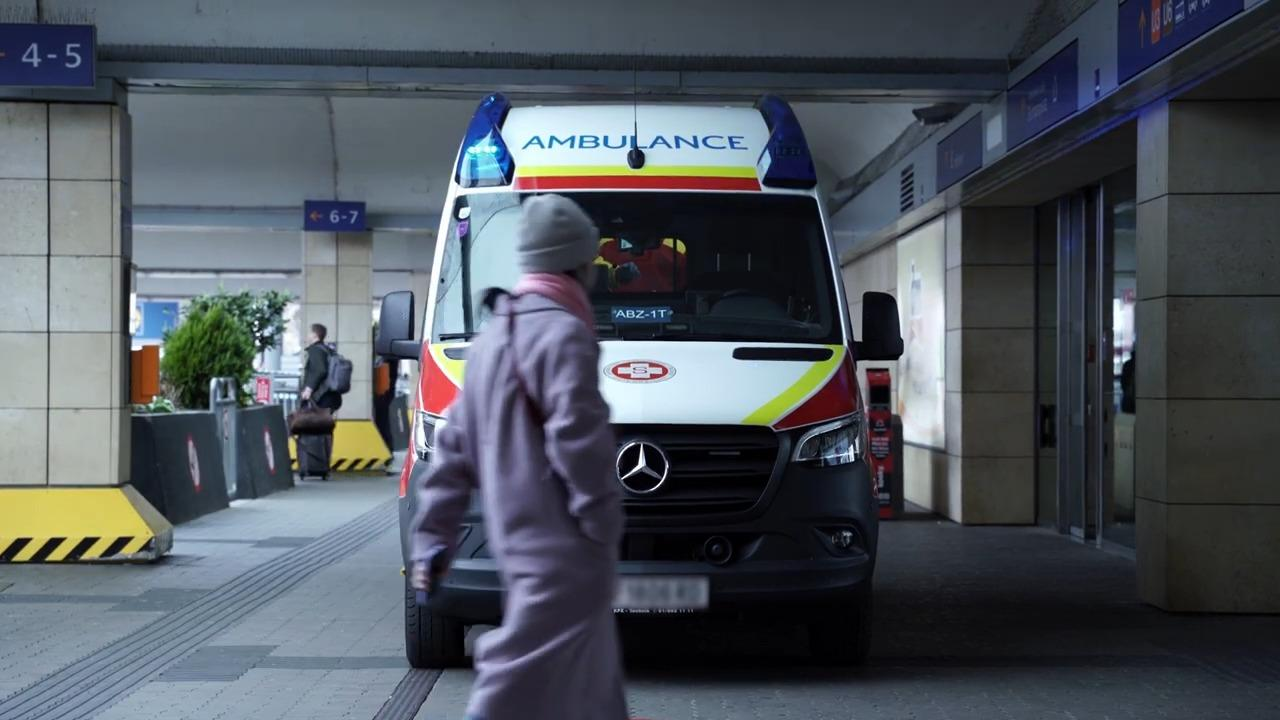car: (380, 88, 903, 667)
